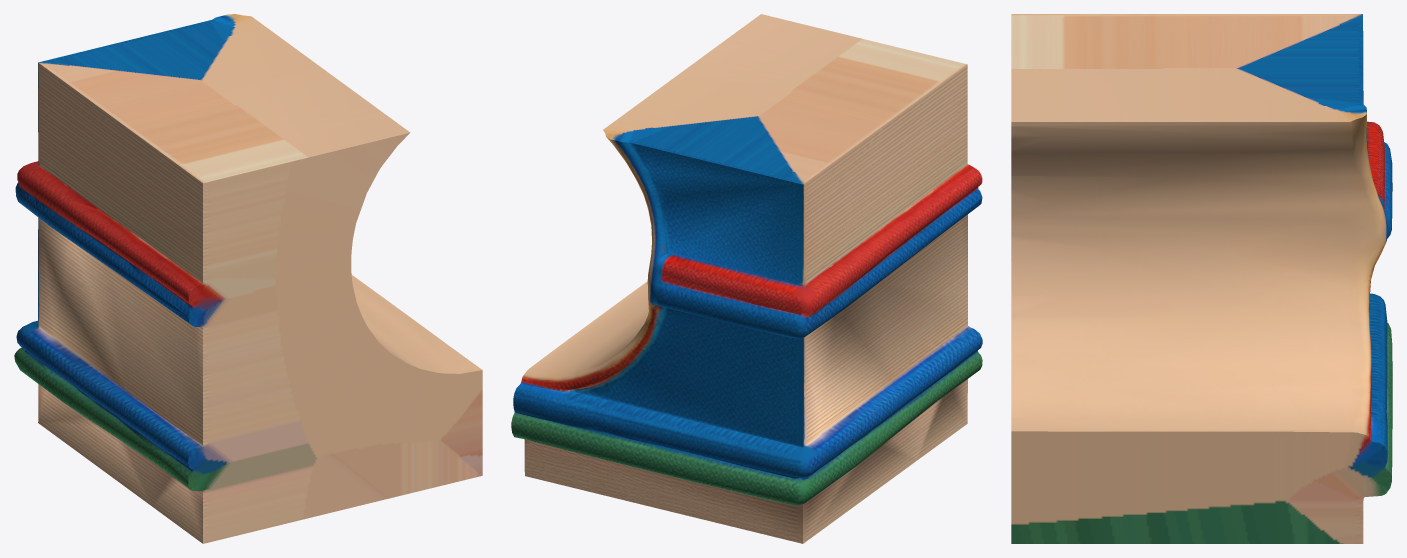
File: 7-upper-walls-back-left.fbx
3 renders of one model, left to right at view 1: azimuth 30°, elevation 25°; view 2: azimuth 150°, elevation 25°; view 3: azimuth 270°, elevation 25°, orthographic. The views are drawn at different scales.
Parts seen in each view (by area): view 1: upper-walls-back-left; view 2: upper-walls-back-left; view 3: upper-walls-back-left.
Part boxes in pixels (x1,y1,x2,y2): upper-walls-back-left: (14,14,482,543); upper-walls-back-left: (511,14,982,543); upper-walls-back-left: (1011,14,1392,543).
Bounding box in the file's own units: 6022 × 7017 × 6308.
Materials: 1 (1 with a texture image).
